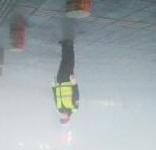person: (50, 38, 80, 124)
